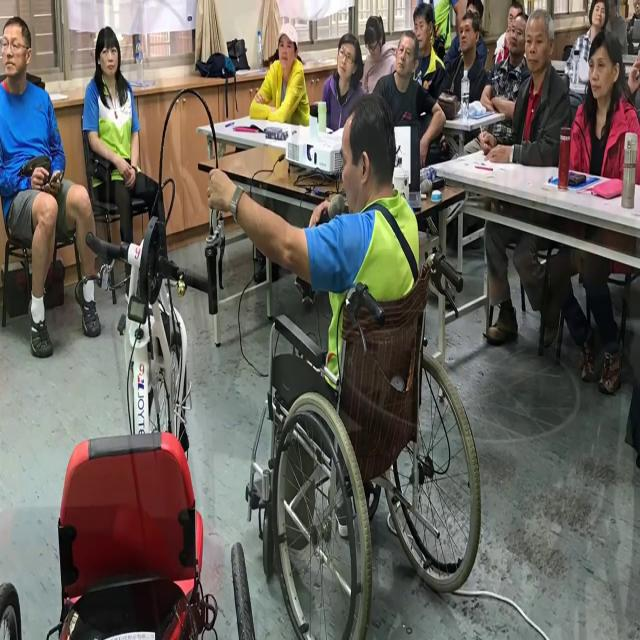wheelchairs: (240, 225, 504, 640)
